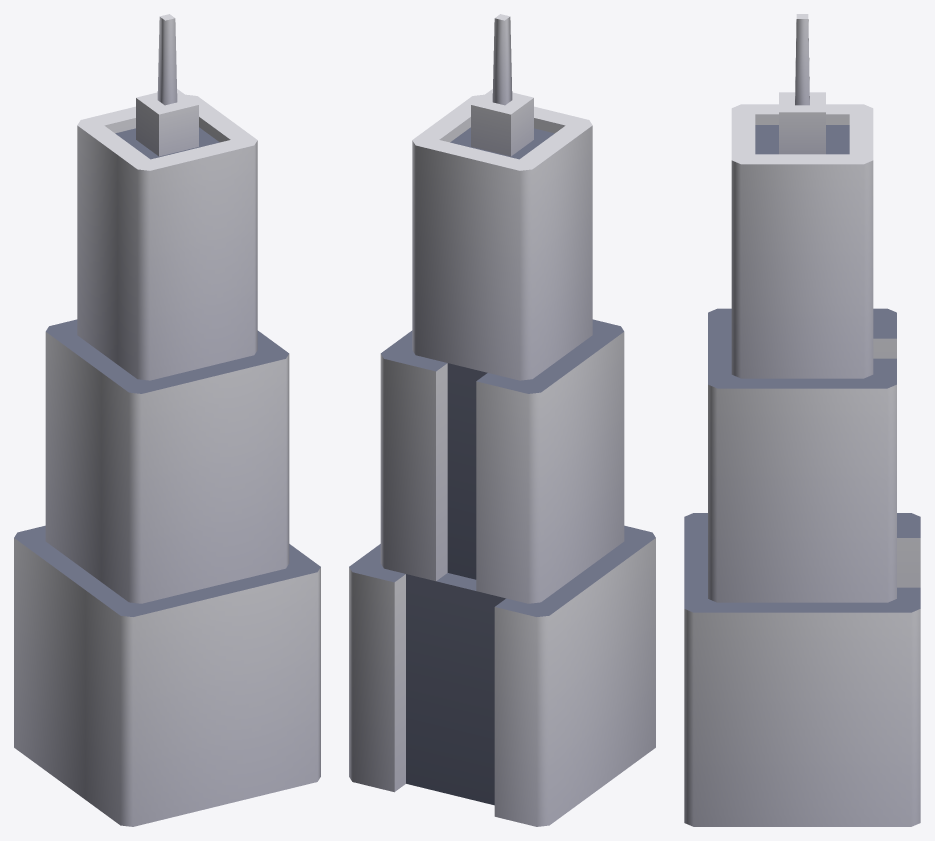
File: low-detail-building-i.glb
The picture shows the model from 3 angles, left to right: view 1: azimuth 30°, elevation 25°; view 2: azimuth 150°, elevation 25°; view 3: azimuth 270°, elevation 25°; orthographic projection. The views are drawn at different scales.
Visible parts, largest first — view 1: low-detail-building-i; view 2: low-detail-building-i; view 3: low-detail-building-i.
Part boxes in pixels (box(x1,y1,x2,y2)): low-detail-building-i: box(14, 14, 320, 826); low-detail-building-i: box(349, 14, 655, 826); low-detail-building-i: box(684, 14, 920, 826).
Size of the model in its own units: 0.5 by 1.77 by 0.5.
Materials: 1 (1 with a texture image).
